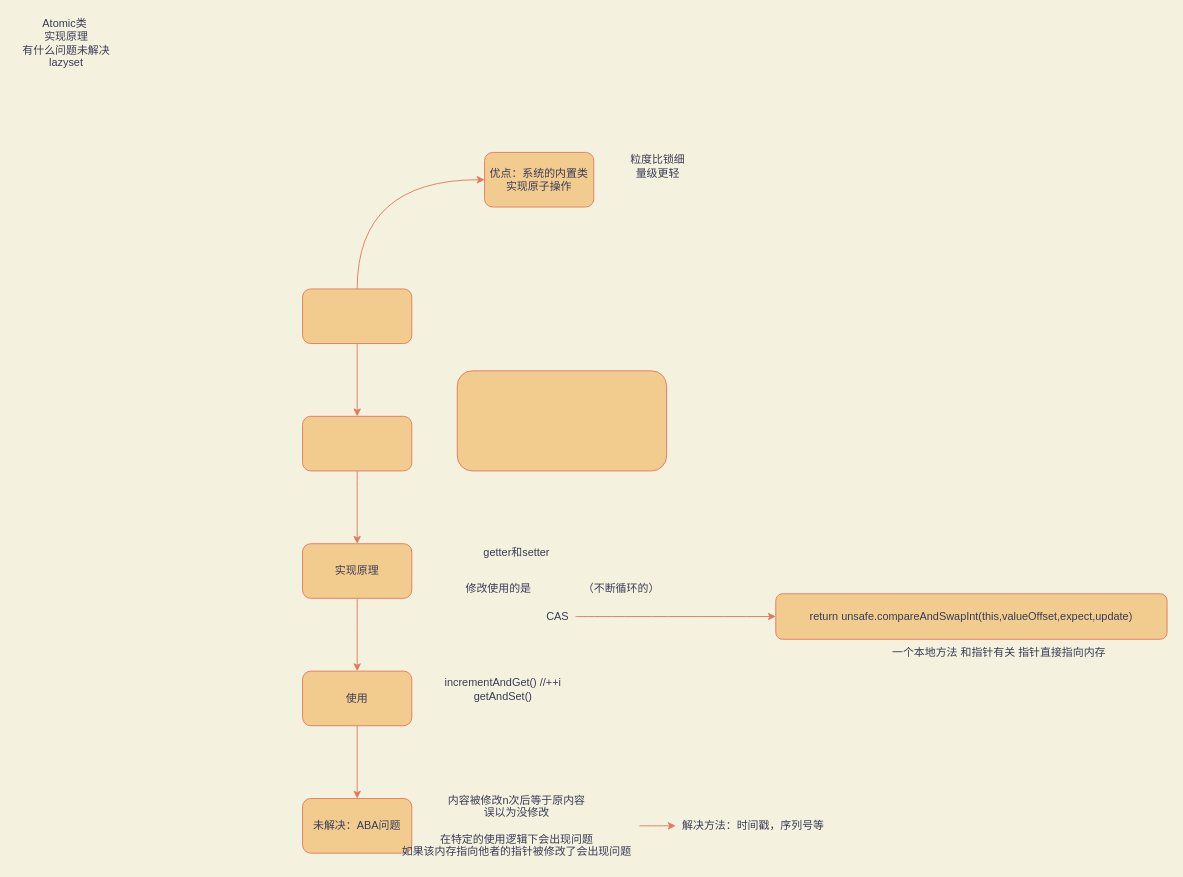
This 1183x877 diagram has some shape labels left out. Each missing label, with the centre of its shape:
"Atomic-类" goes at pixel 357 316.
"AtomicInteger AtomicIntegerArray Long Boolean Reference StampedReference" goes at pixel 561 420.
"例子" goes at pixel 357 443.
